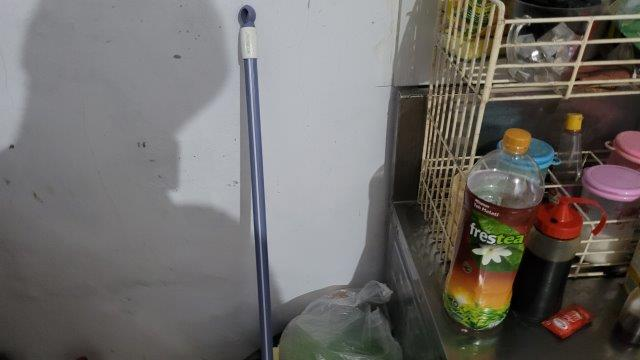botolplastik: (443, 128, 546, 331)
plastik: (281, 279, 402, 360)
